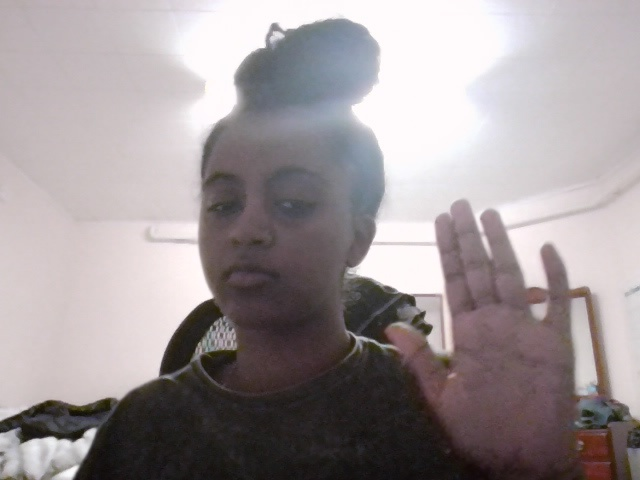hello: (383, 198, 598, 472)
